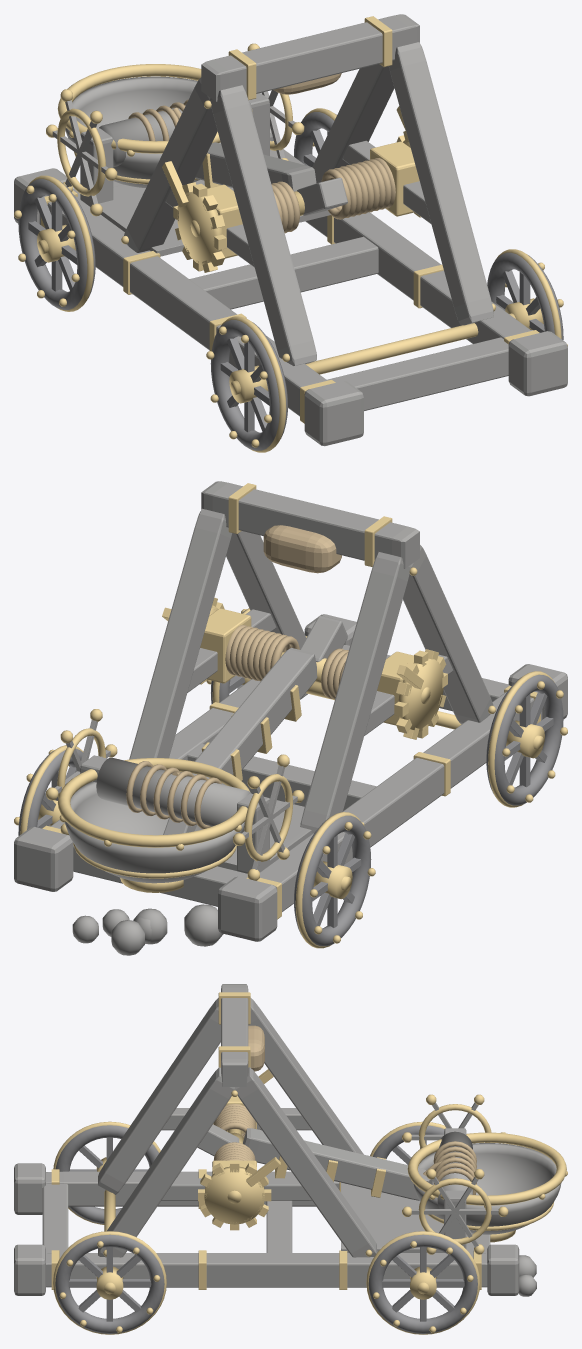
The model's file is dm_catapultstone.glb.
3 views of the same model, one above another, from view 1: azimuth 30°, elevation 25°; view 2: azimuth 150°, elevation 25°; view 3: azimuth 270°, elevation 25° (orthographic). The views are drawn at different scales.
Parts seen in each view (by area): view 1: Base_Slate_FrameFront.001, Base_Slate_FrameFront, Base_Slate_StopBar, Base_Slate_Rail, Base_Slate_Rail.001, Base_Slate_CrossBeam, Base_Slate_FrameBack, Base_Slate_CrossBeam.001, Arm_Slate_Bucket, Base_Slate_FrameBack.001, Base_Cobblestone_WheelRim, Base_Cobblestone_WheelRim.001 (+28 smaller); view 2: Base_Slate_FrameBack, Base_Slate_FrameBack.001, Base_Slate_Rail, Base_Slate_StopBar, Arm_Slate_Bucket, Base_Slate_FrameFront, Arm_Slate_ArmBeam, Base_Slate_WinchDrum, Arm_Metal_BucketRim, Base_Slate_FrameFront.001, Base_Cobblestone_WheelRim, Base_Cobblestone_WheelRim.001 (+30 smaller); view 3: Base_Slate_Rail.001, Base_Slate_FrameBack.001, Base_Slate_FrameFront, Arm_Slate_Bucket, Base_Slate_FrameFront.001, Base_Slate_FrameBack, Base_Cobblestone_WheelRim.002, Base_Cobblestone_WheelRim.003, Arm_Slate_ArmBeam, Arm_Metal_BucketRim, Base_Slate_Rail, Base_Slate_StopBar (+27 smaller).
Boxes of the visible parts, x1,y1,x2,y2 form: Base_Slate_FrameFront.001: (388,42,493,325); Base_Slate_FrameFront: (210,85,316,365); Base_Slate_StopBar: (201,14,419,101); Base_Slate_Rail: (39,195,327,416); Base_Slate_Rail.001: (270,140,531,343); Base_Slate_CrossBeam: (327,337,508,410); Base_Slate_FrameBack: (124,77,217,252); Base_Slate_CrossBeam.001: (189,236,378,309); Arm_Slate_Bucket: (65,76,220,187); Base_Slate_FrameBack.001: (312,64,394,183); Base_Cobblestone_WheelRim: (210,320,287,450); Base_Cobblestone_WheelRim.001: (18,179,95,309); Base_Slate_FrameBack: (300,552,410,833); Base_Slate_FrameBack.001: (129,508,232,759); Base_Slate_Rail: (260,691,542,911); Base_Slate_StopBar: (201,481,419,568); Arm_Slate_Bucket: (64,781,244,883); Base_Slate_FrameFront: (403,545,493,724); Arm_Slate_ArmBeam: (192,648,317,778); Base_Slate_WinchDrum: (96,757,251,826); Arm_Metal_BucketRim: (57,758,249,847); Base_Slate_FrameFront.001: (226,531,306,649); Base_Cobblestone_WheelRim: (486,674,563,805); Base_Cobblestone_WheelRim.001: (294,815,371,946); Base_Slate_Rail.001: (46,1253,487,1287); Base_Slate_FrameBack.001: (234,1067,377,1257); Base_Slate_FrameFront: (98,998,220,1194); Arm_Slate_Bucket: (413,1143,561,1234); Base_Slate_FrameFront.001: (98,1067,234,1257); Base_Slate_FrameBack: (248,998,363,1154); Base_Cobblestone_WheelRim.002: (55,1234,164,1333); Base_Cobblestone_WheelRim.003: (368,1234,477,1333); Arm_Slate_ArmBeam: (243,1128,429,1200); Arm_Metal_BucketRim: (407,1132,566,1205); Base_Slate_Rail: (46,1171,339,1206); Base_Slate_StopBar: (221,984,248,1086).
Size of the model in its own units: 9 by 9.05 by 17.32.
